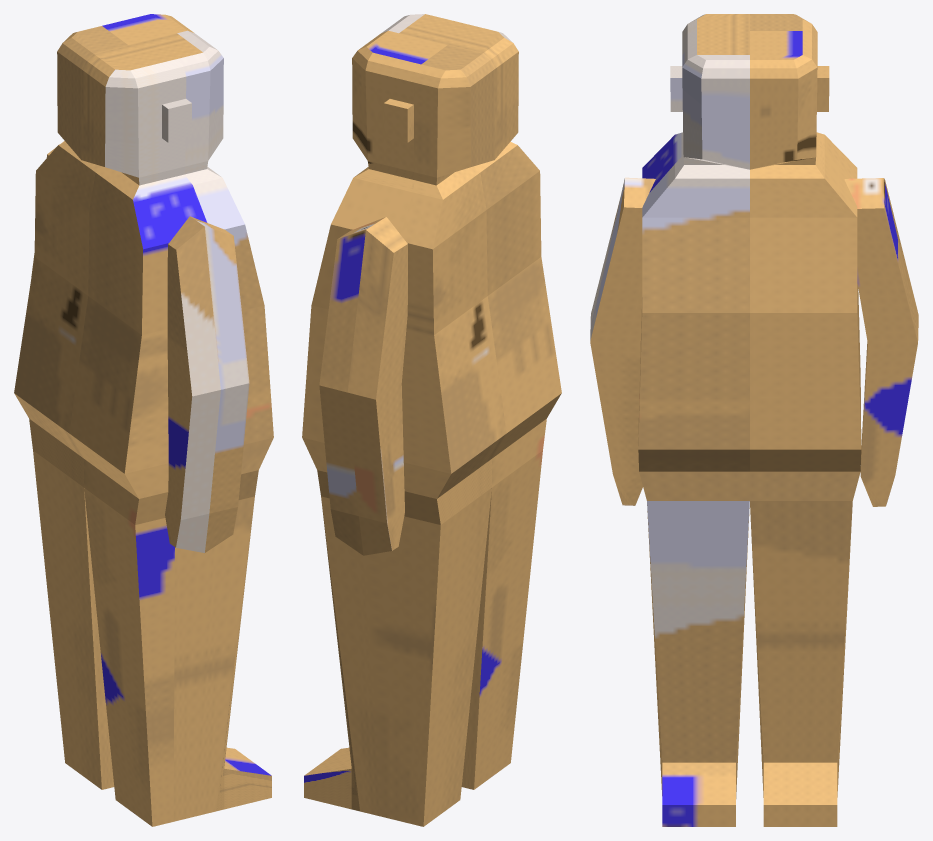
Rendered from human.fbx.
3 views of the same model, side by side, from view 1: azimuth 30°, elevation 25°; view 2: azimuth 150°, elevation 25°; view 3: azimuth 270°, elevation 25° (orthographic).
Parts seen in each view (by area): view 1: NPC, Arm Right; view 2: NPC, Arm Right.001; view 3: NPC, Arm Right.001, Arm Right.
Part boxes in pixels (box(x1,y1,x2,y2)): NPC: box(14, 14, 273, 826); Arm Right: box(165, 216, 249, 552); NPC: box(302, 14, 561, 826); Arm Right.001: box(319, 217, 407, 555); NPC: box(638, 14, 861, 826); Arm Right.001: box(844, 178, 918, 506); Arm Right: box(590, 177, 655, 505).
Bounding box in the file's own units: 4.57 × 20.47 × 8.16.
